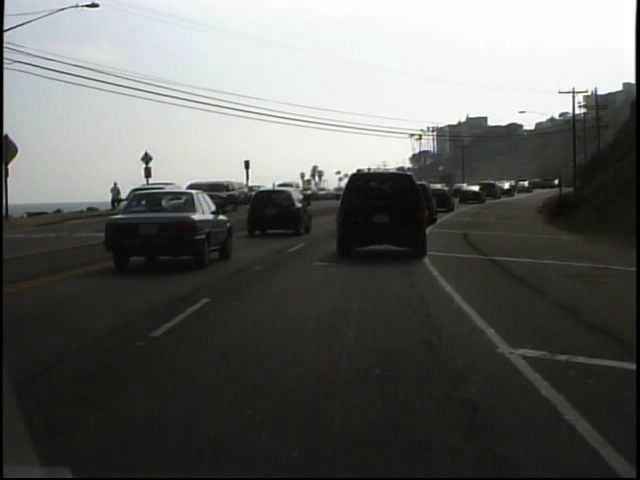person: (108, 179, 125, 216)
